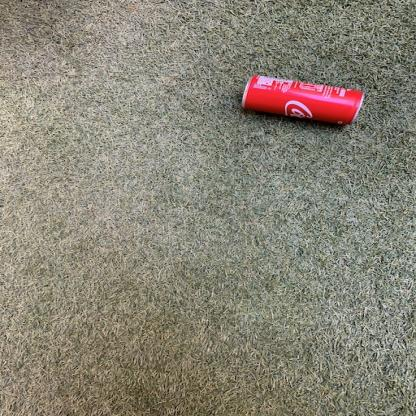trash: (232, 74, 377, 132)
